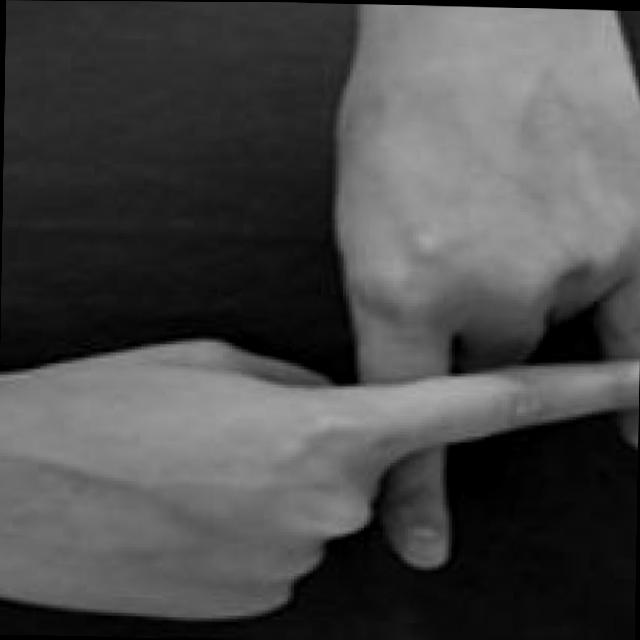H: (0, 0, 640, 634)
